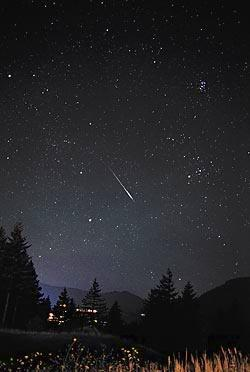meteorite: (100, 160, 140, 206)
